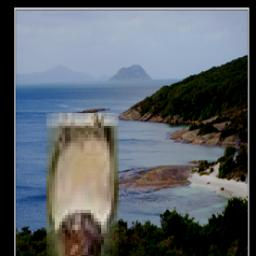Swallow: (46, 113, 119, 256)
